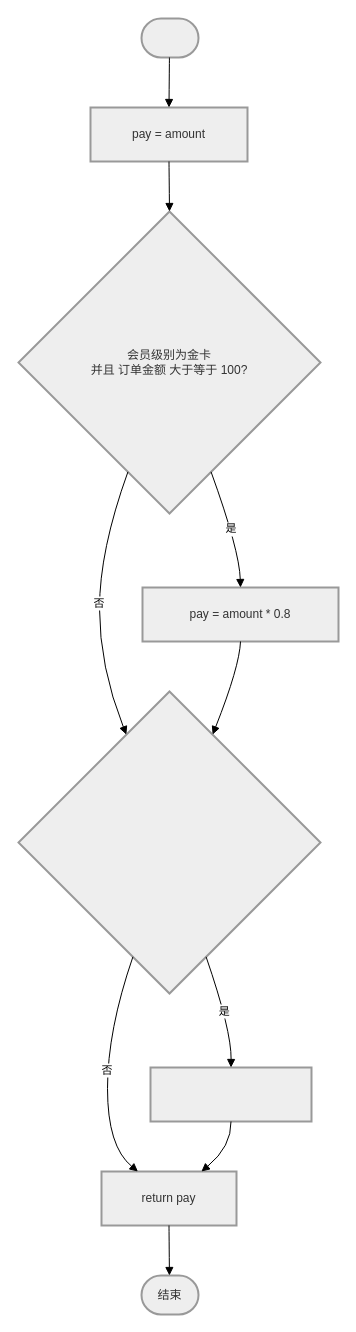
This 356x1332 diagram has some shape labels left out. The shapes that lost their labels are listed below. From the top down, each one's centre as x and y in pixels, then its label:
At (169,37): "开始".
At (169,842): "使用优惠券 并且 当前支付金额 大于等于 100?".
At (230,1094): "pay = pay - 20".
